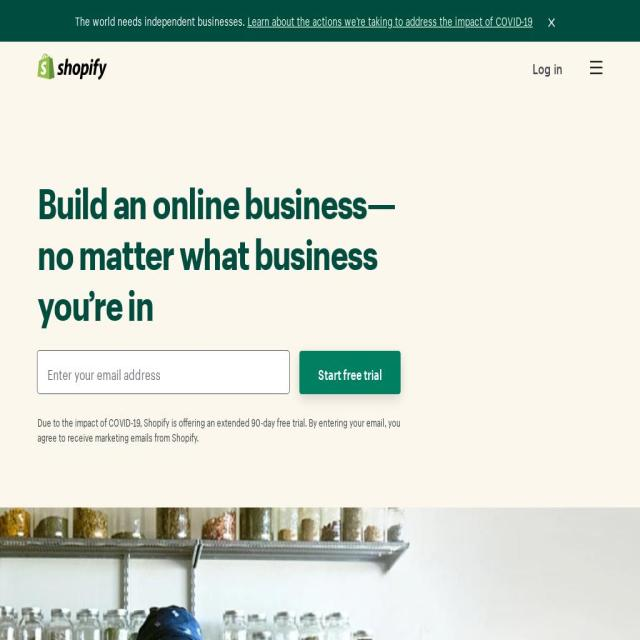button: (299, 351, 401, 394), (38, 53, 108, 80), (532, 42, 563, 92), (582, 48, 610, 85)
field: (38, 351, 290, 394)
heading: (38, 172, 402, 324)
image: (38, 53, 108, 80), (590, 59, 602, 76)
link: (247, 11, 532, 29)
text: (38, 414, 402, 444), (75, 11, 248, 29)
